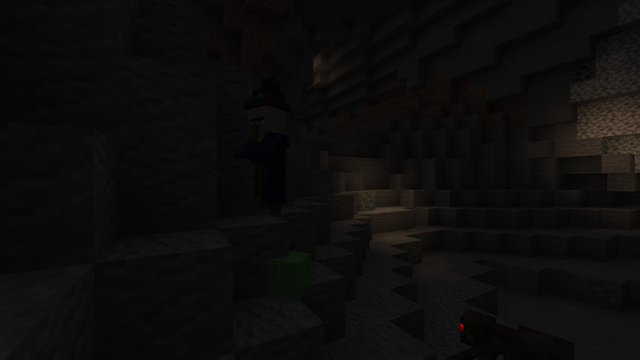araignees: (447, 299, 566, 359)
slimes: (269, 248, 312, 301)
sorcieres: (246, 99, 288, 217)
